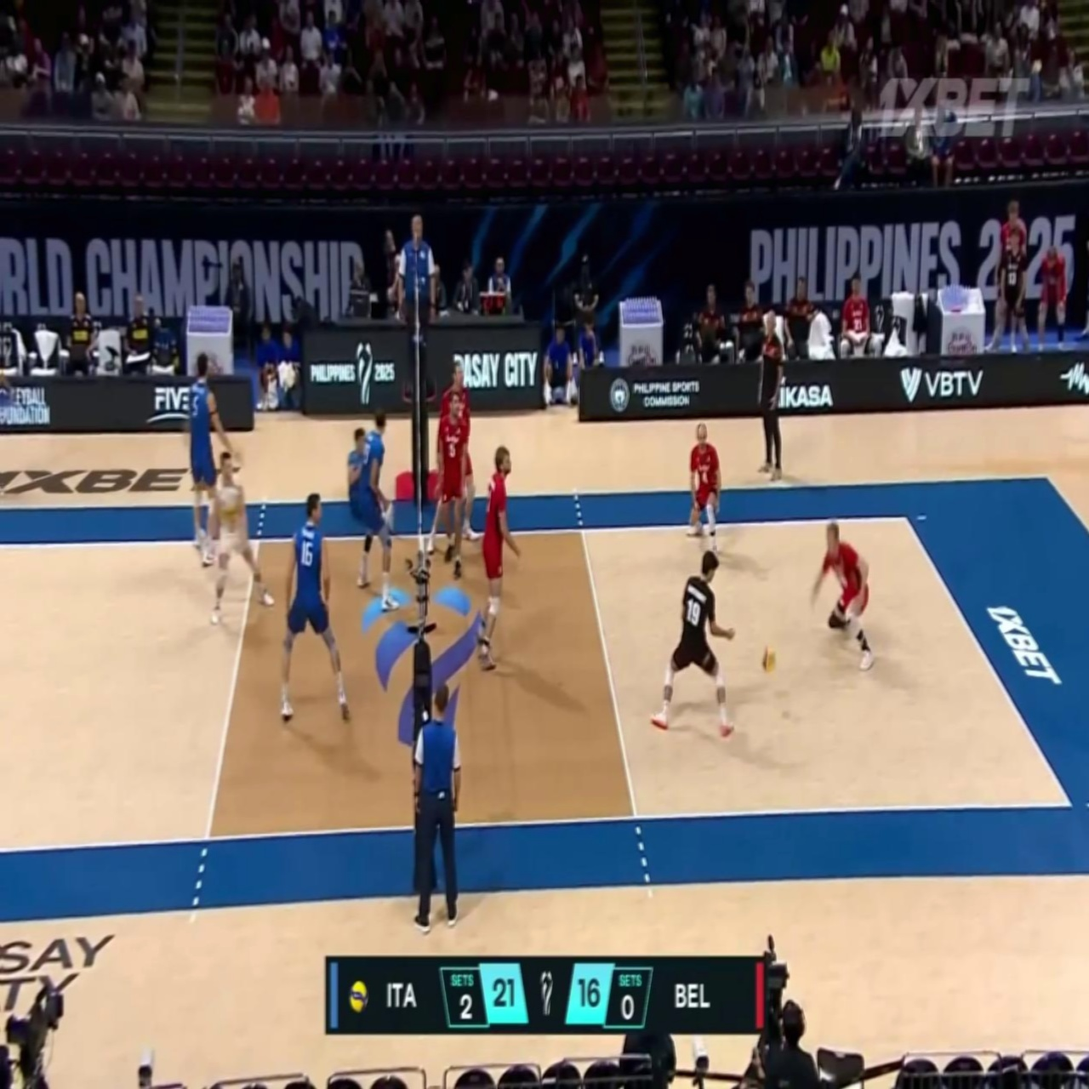ball: (760, 645, 776, 674)
